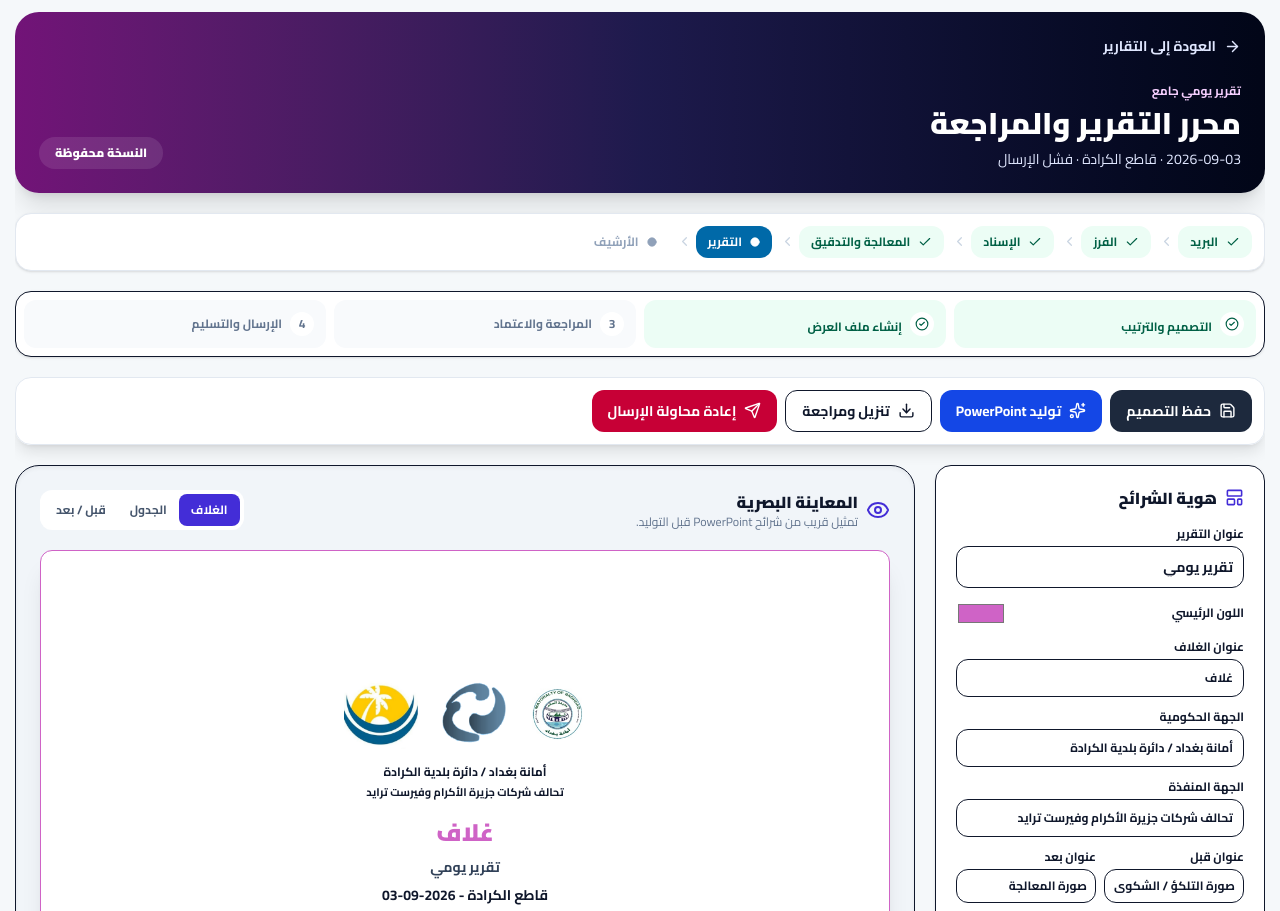
محرر التقرير — ReportEditorPage › يسمح بإعادة محاولة تقرير فشل إرساله ويسجل رسالة واضحة
The image size is (1280, 911).
What coordinates should you click on to do the following:
click the button "إعادة محاولة الإرسال"
I would click on:
 (684, 410)
Its box is 592,390 -> 777,432.
(page scrolled)
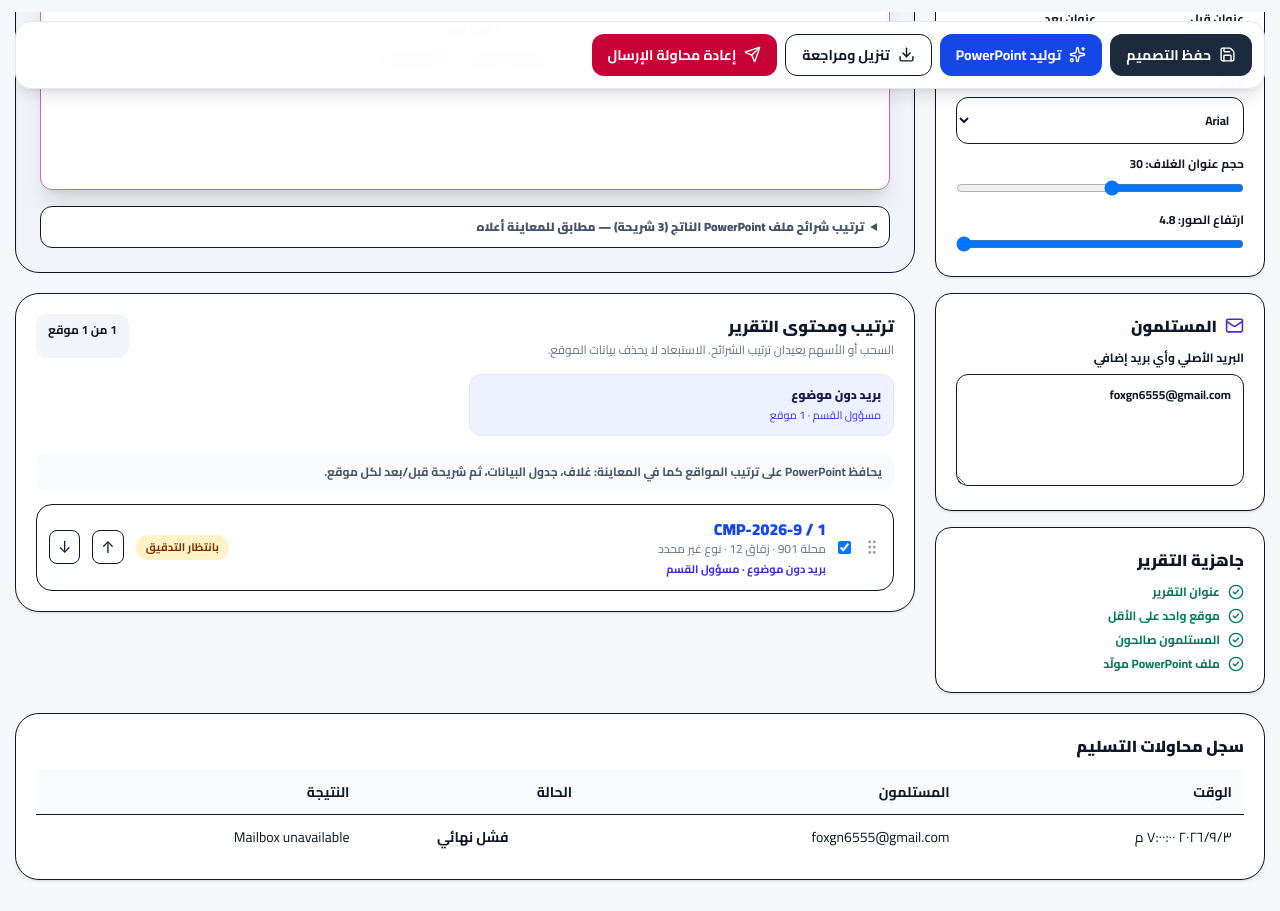
Expected: the text "Mailbox unavailable" is shown, 36,814 -> 362,858
